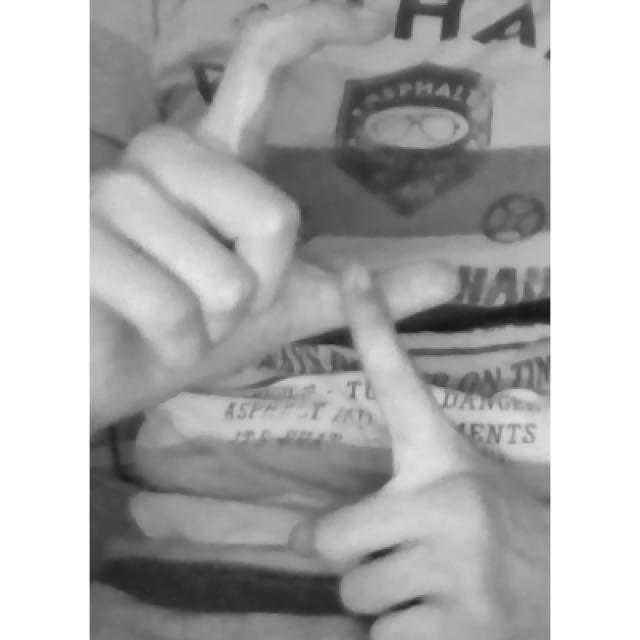C_: (90, 0, 550, 640)
